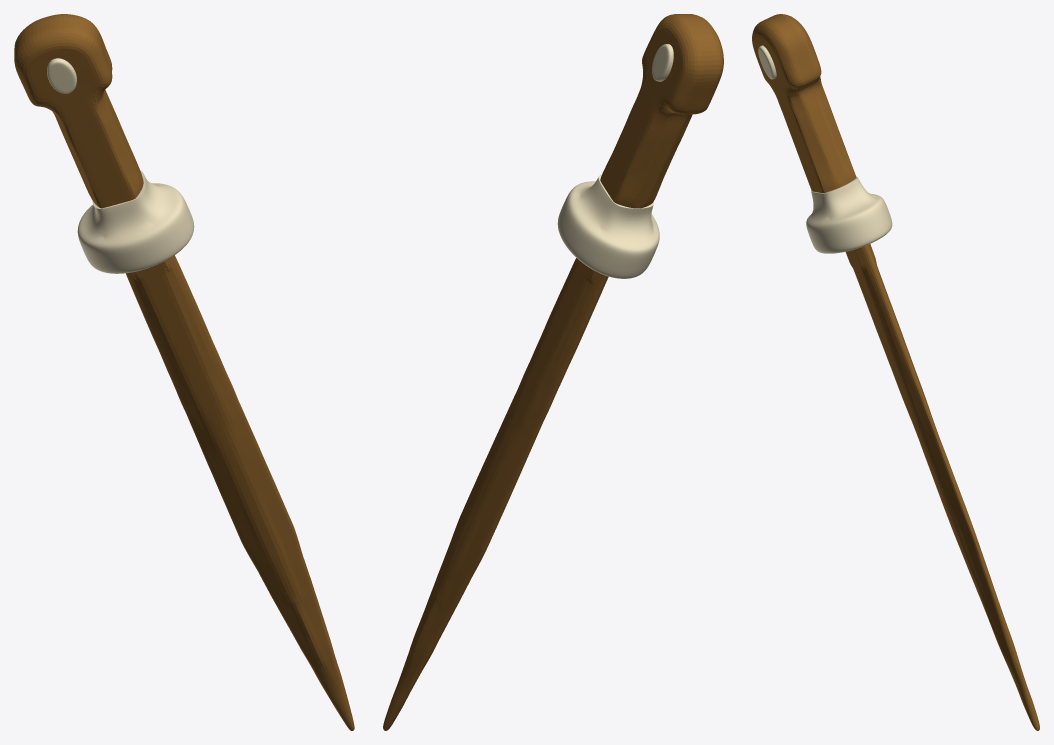
File: COSSACK_WEAPON_10#5.glb
3 views of the same model, side by side, from view 1: azimuth 30°, elevation 25°; view 2: azimuth 150°, elevation 25°; view 3: azimuth 330°, elevation 25° (orthographic). The views are drawn at different scales.
Parts seen in each view (by area): view 1: ShortKindjal2; view 2: ShortKindjal2; view 3: ShortKindjal2.
Part boxes in pixels (x1,y1,x2,y2): ShortKindjal2: (14,14,354,730); ShortKindjal2: (383,14,723,730); ShortKindjal2: (752,14,1039,730).
Size of the model in its own units: 1.4 by 3.12 by 0.3665.
